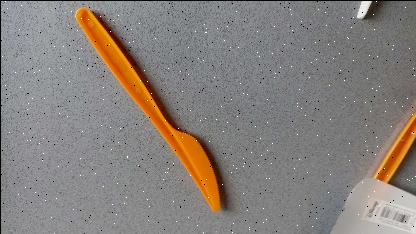Others: (72, 5, 223, 213)
